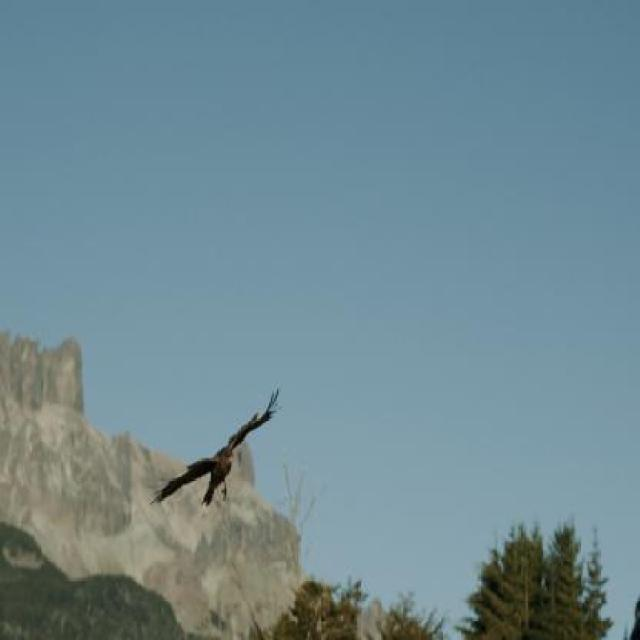bird: (144, 388, 284, 524)
